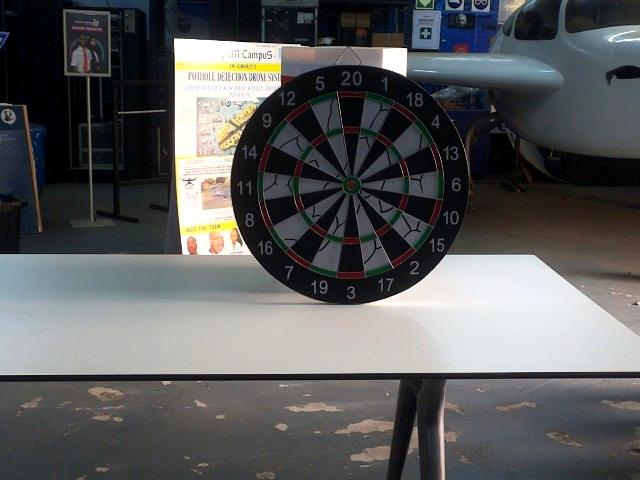bullseye: (344, 180, 362, 193)
